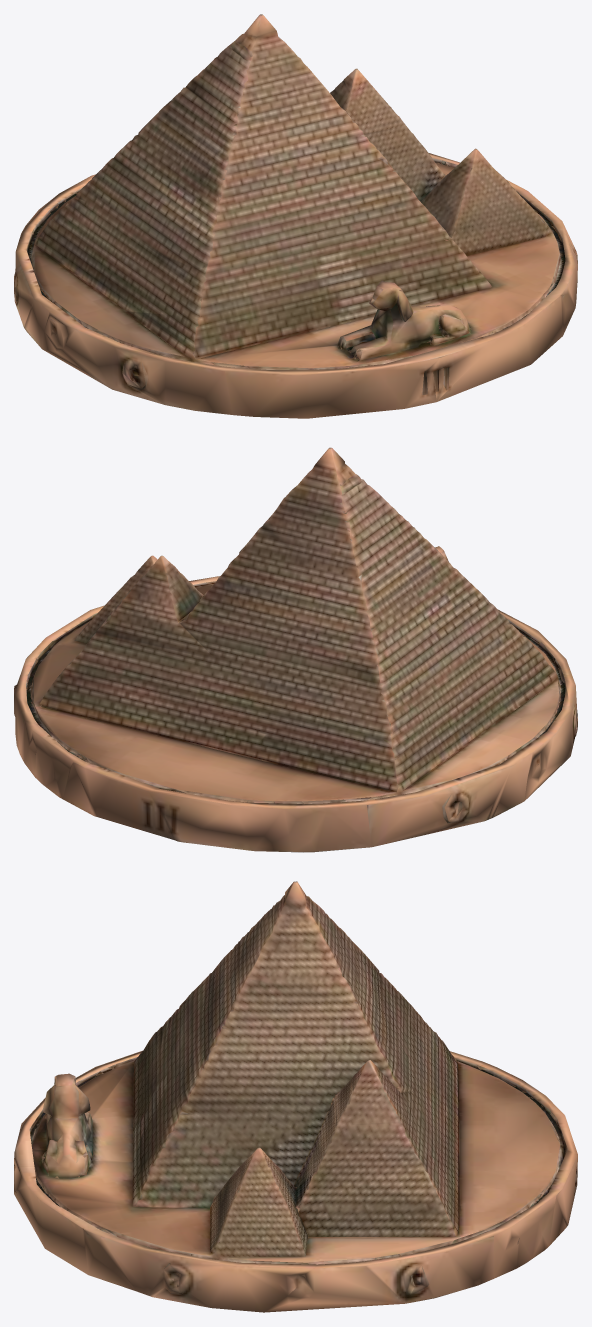
Rendered from pyramid_giza_gold.glb.
The picture shows the model from 3 angles, top to bottom: view 1: azimuth 30°, elevation 25°; view 2: azimuth 150°, elevation 25°; view 3: azimuth 270°, elevation 25°; orthographic projection.
Visible parts, largest first — view 1: Mesh_0; view 2: Mesh_0; view 3: Mesh_0.
Part boxes in pixels (box(x1,y1,x2,y2)): Mesh_0: box(14, 14, 577, 418); Mesh_0: box(14, 447, 577, 852); Mesh_0: box(14, 881, 577, 1312).
Bounding box in the file's own units: 1.9 × 1.11 × 1.91.
1 material, 1 textured.
